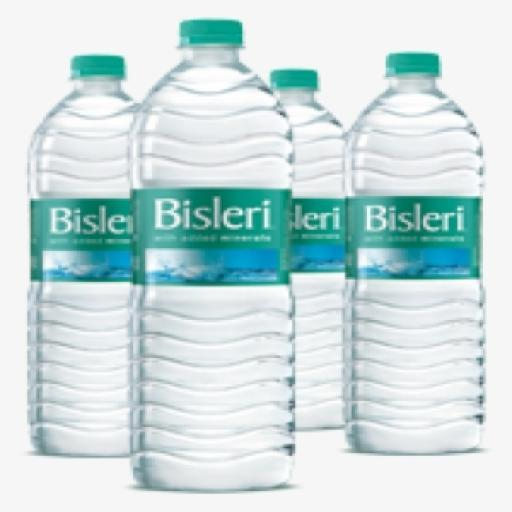bottle: (116, 12, 316, 507), (334, 46, 494, 462), (14, 45, 158, 469)
